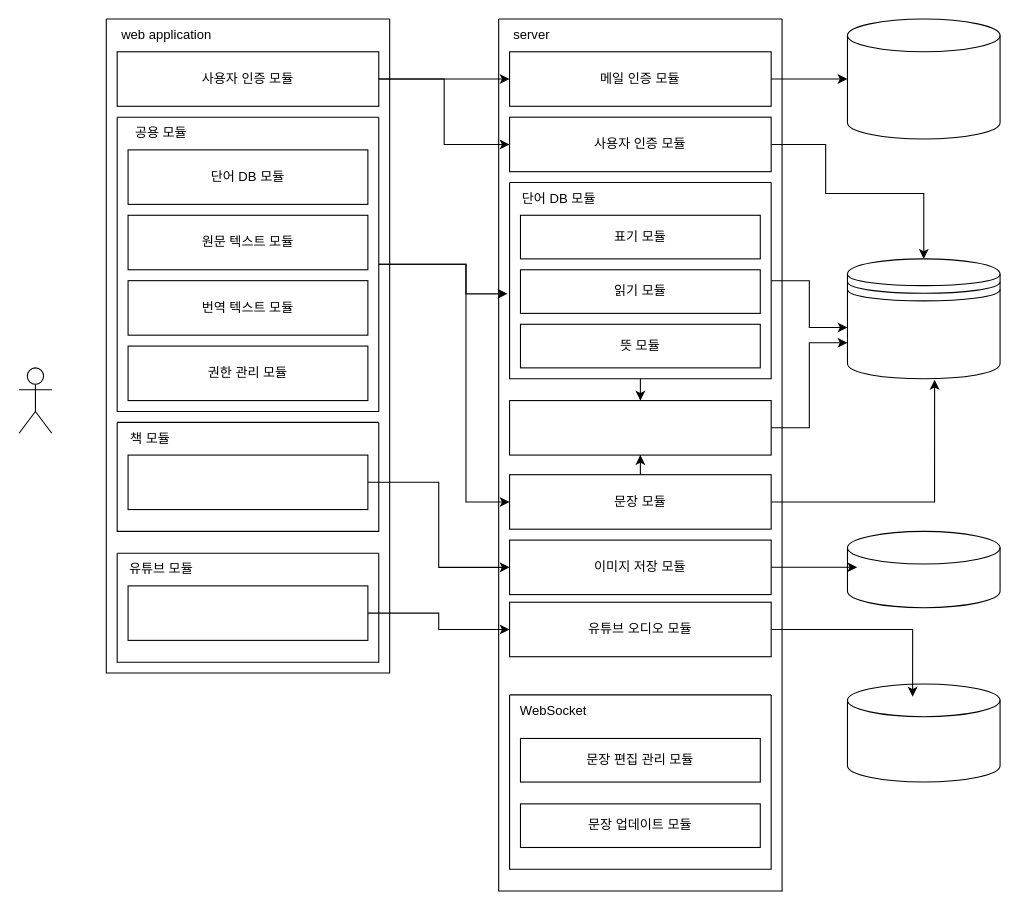
This 1019x910 diagram has some shape labels left out. The shapes that lost their labels are listed below. From the top down, each one's centre as x and y in pixels, then its label:
At point 923,78: "메일 전송 모듈 nodemailer".
At point 923,318: "공통 DB Oracle Cloud 자율 운영 데이터베이스".
At point 35,400: "User".
At point 639,427: "단어 포함 관계 모듈".
At point 247,482: "책 이미지 모듈".
At point 923,569: "이미지 저장 모듈 multer".
At point 247,612: "유튜브 오디오 파형 그리기 모듈".
At point 923,732: "유튜브 오디오 추출 모듈 ytdl-core".
